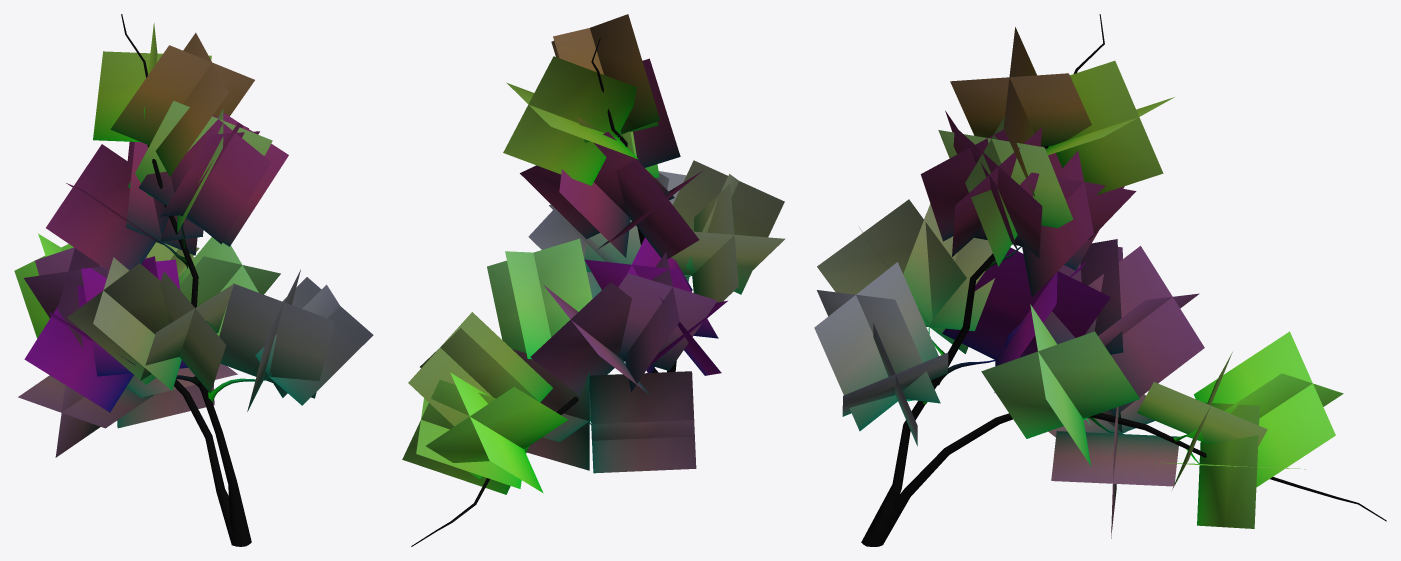
File: URP_P12_Tree_16_LOD_2.fbx
3 renders of one model, left to right at view 1: azimuth 30°, elevation 25°; view 2: azimuth 150°, elevation 25°; view 3: azimuth 270°, elevation 25°, orthographic. The views are drawn at different scales.
Parts seen in each view (by area): view 1: Tree_16_LOD_2; view 2: Tree_16_LOD_2; view 3: Tree_16_LOD_2.
Part boxes in pixels (x1,y1,x2,y2): Tree_16_LOD_2: (14, 14, 373, 546); Tree_16_LOD_2: (402, 14, 785, 546); Tree_16_LOD_2: (814, 14, 1386, 546).
Bounding box in the file's own units: 185 × 313 × 313.
